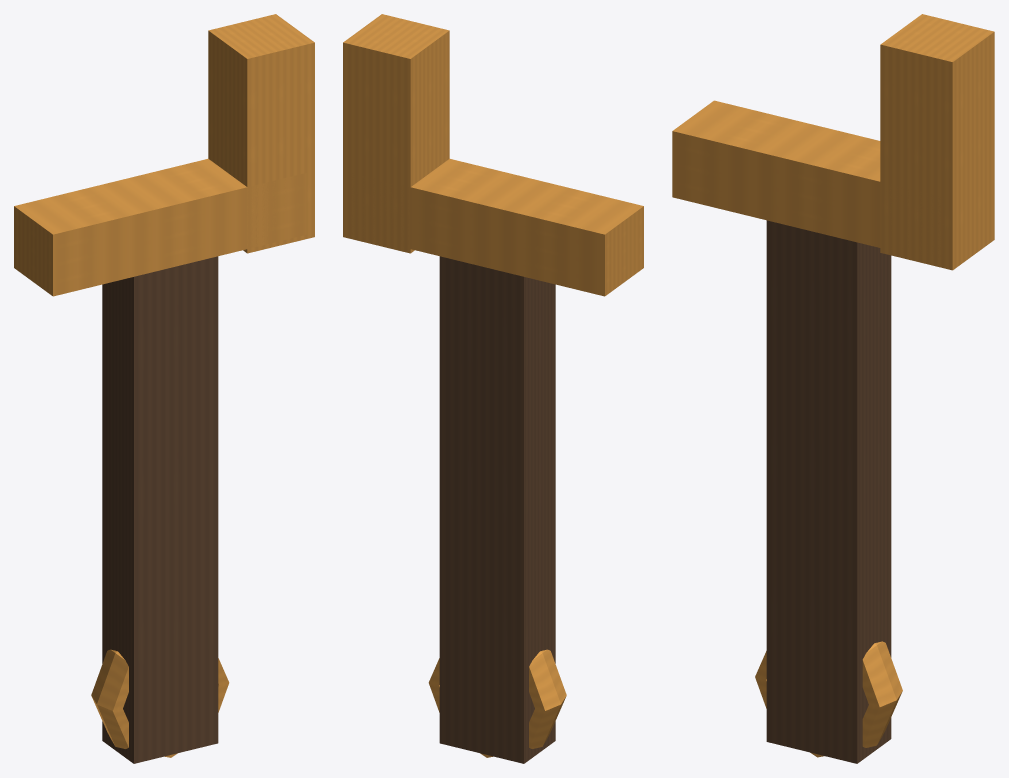
File: atlas100-s011-a05.lod2.glb
The picture shows the model from 3 angles, left to right: view 1: azimuth 30°, elevation 25°; view 2: azimuth 150°, elevation 25°; view 3: azimuth 330°, elevation 25°; orthographic projection. The views are drawn at different scales.
Visible parts, largest first — view 1: atlas100-s011-a05:part-000, atlas100-s011-a05:part-003, atlas100-s011-a05:part-002, atlas100-s011-a05:part-004; view 2: atlas100-s011-a05:part-000, atlas100-s011-a05:part-003, atlas100-s011-a05:part-002, atlas100-s011-a05:part-004; view 3: atlas100-s011-a05:part-000, atlas100-s011-a05:part-002, atlas100-s011-a05:part-003, atlas100-s011-a05:part-004.
Part boxes in pixels (x1,y1,x2,y2): atlas100-s011-a05:part-000: [102, 256, 218, 763]; atlas100-s011-a05:part-003: [14, 158, 306, 296]; atlas100-s011-a05:part-002: [208, 14, 314, 253]; atlas100-s011-a05:part-004: [91, 649, 229, 757]; atlas100-s011-a05:part-000: [439, 256, 555, 763]; atlas100-s011-a05:part-003: [351, 158, 643, 296]; atlas100-s011-a05:part-002: [343, 14, 449, 253]; atlas100-s011-a05:part-004: [428, 649, 566, 757]; atlas100-s011-a05:part-000: [766, 220, 891, 763]; atlas100-s011-a05:part-002: [880, 14, 994, 270]; atlas100-s011-a05:part-003: [672, 100, 943, 260]; atlas100-s011-a05:part-004: [755, 641, 902, 757].
Size of the model in its own units: 0.3385 by 0.8572 by 0.0874.
Materials: 2 (2 with a texture image).
